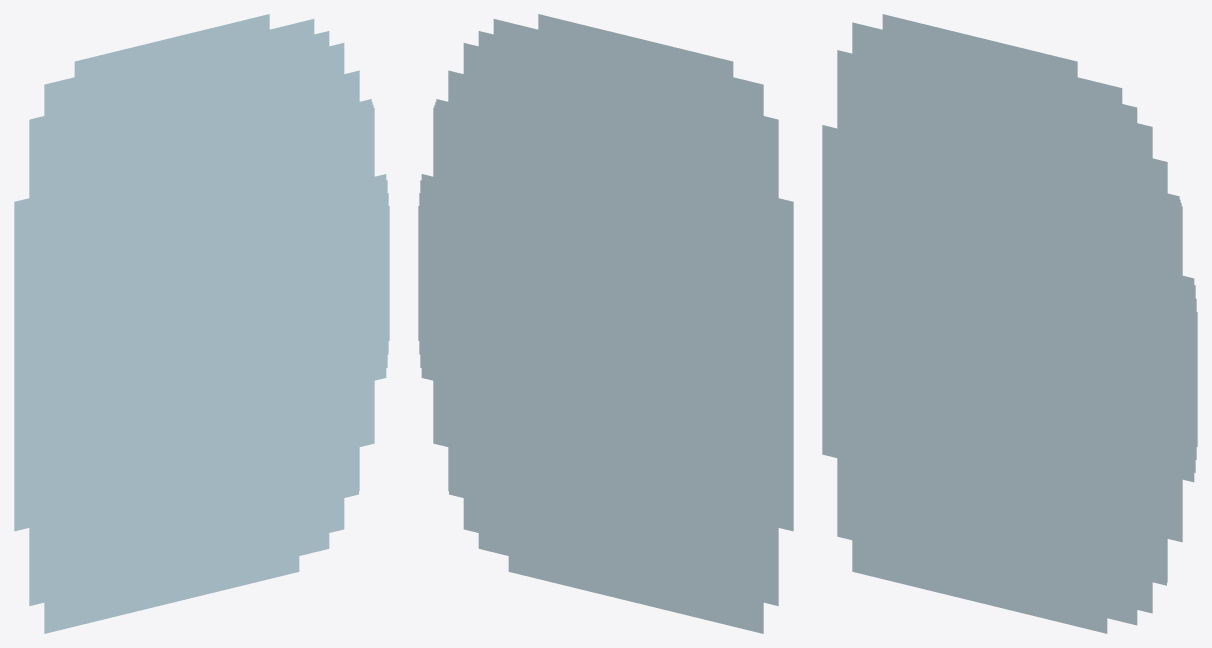
File: wp_water_121.obj
The picture shows the model from 3 angles, left to right: view 1: azimuth 30°, elevation 25°; view 2: azimuth 150°, elevation 25°; view 3: azimuth 330°, elevation 25°; orthographic projection.
Bounding box in the file's own units: 0.3548 × 0.5108 × 0.
Materials: 1 (1 with a texture image).
